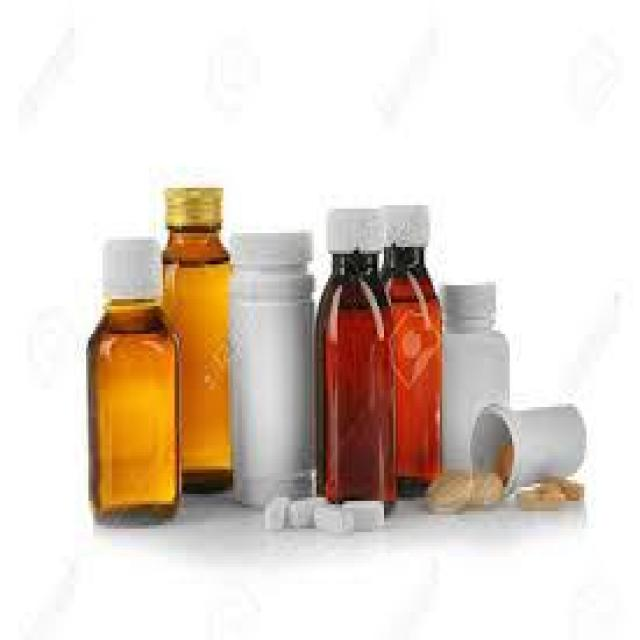B3: (79, 222, 196, 550), (300, 188, 407, 515), (154, 178, 258, 504), (374, 191, 444, 494)
